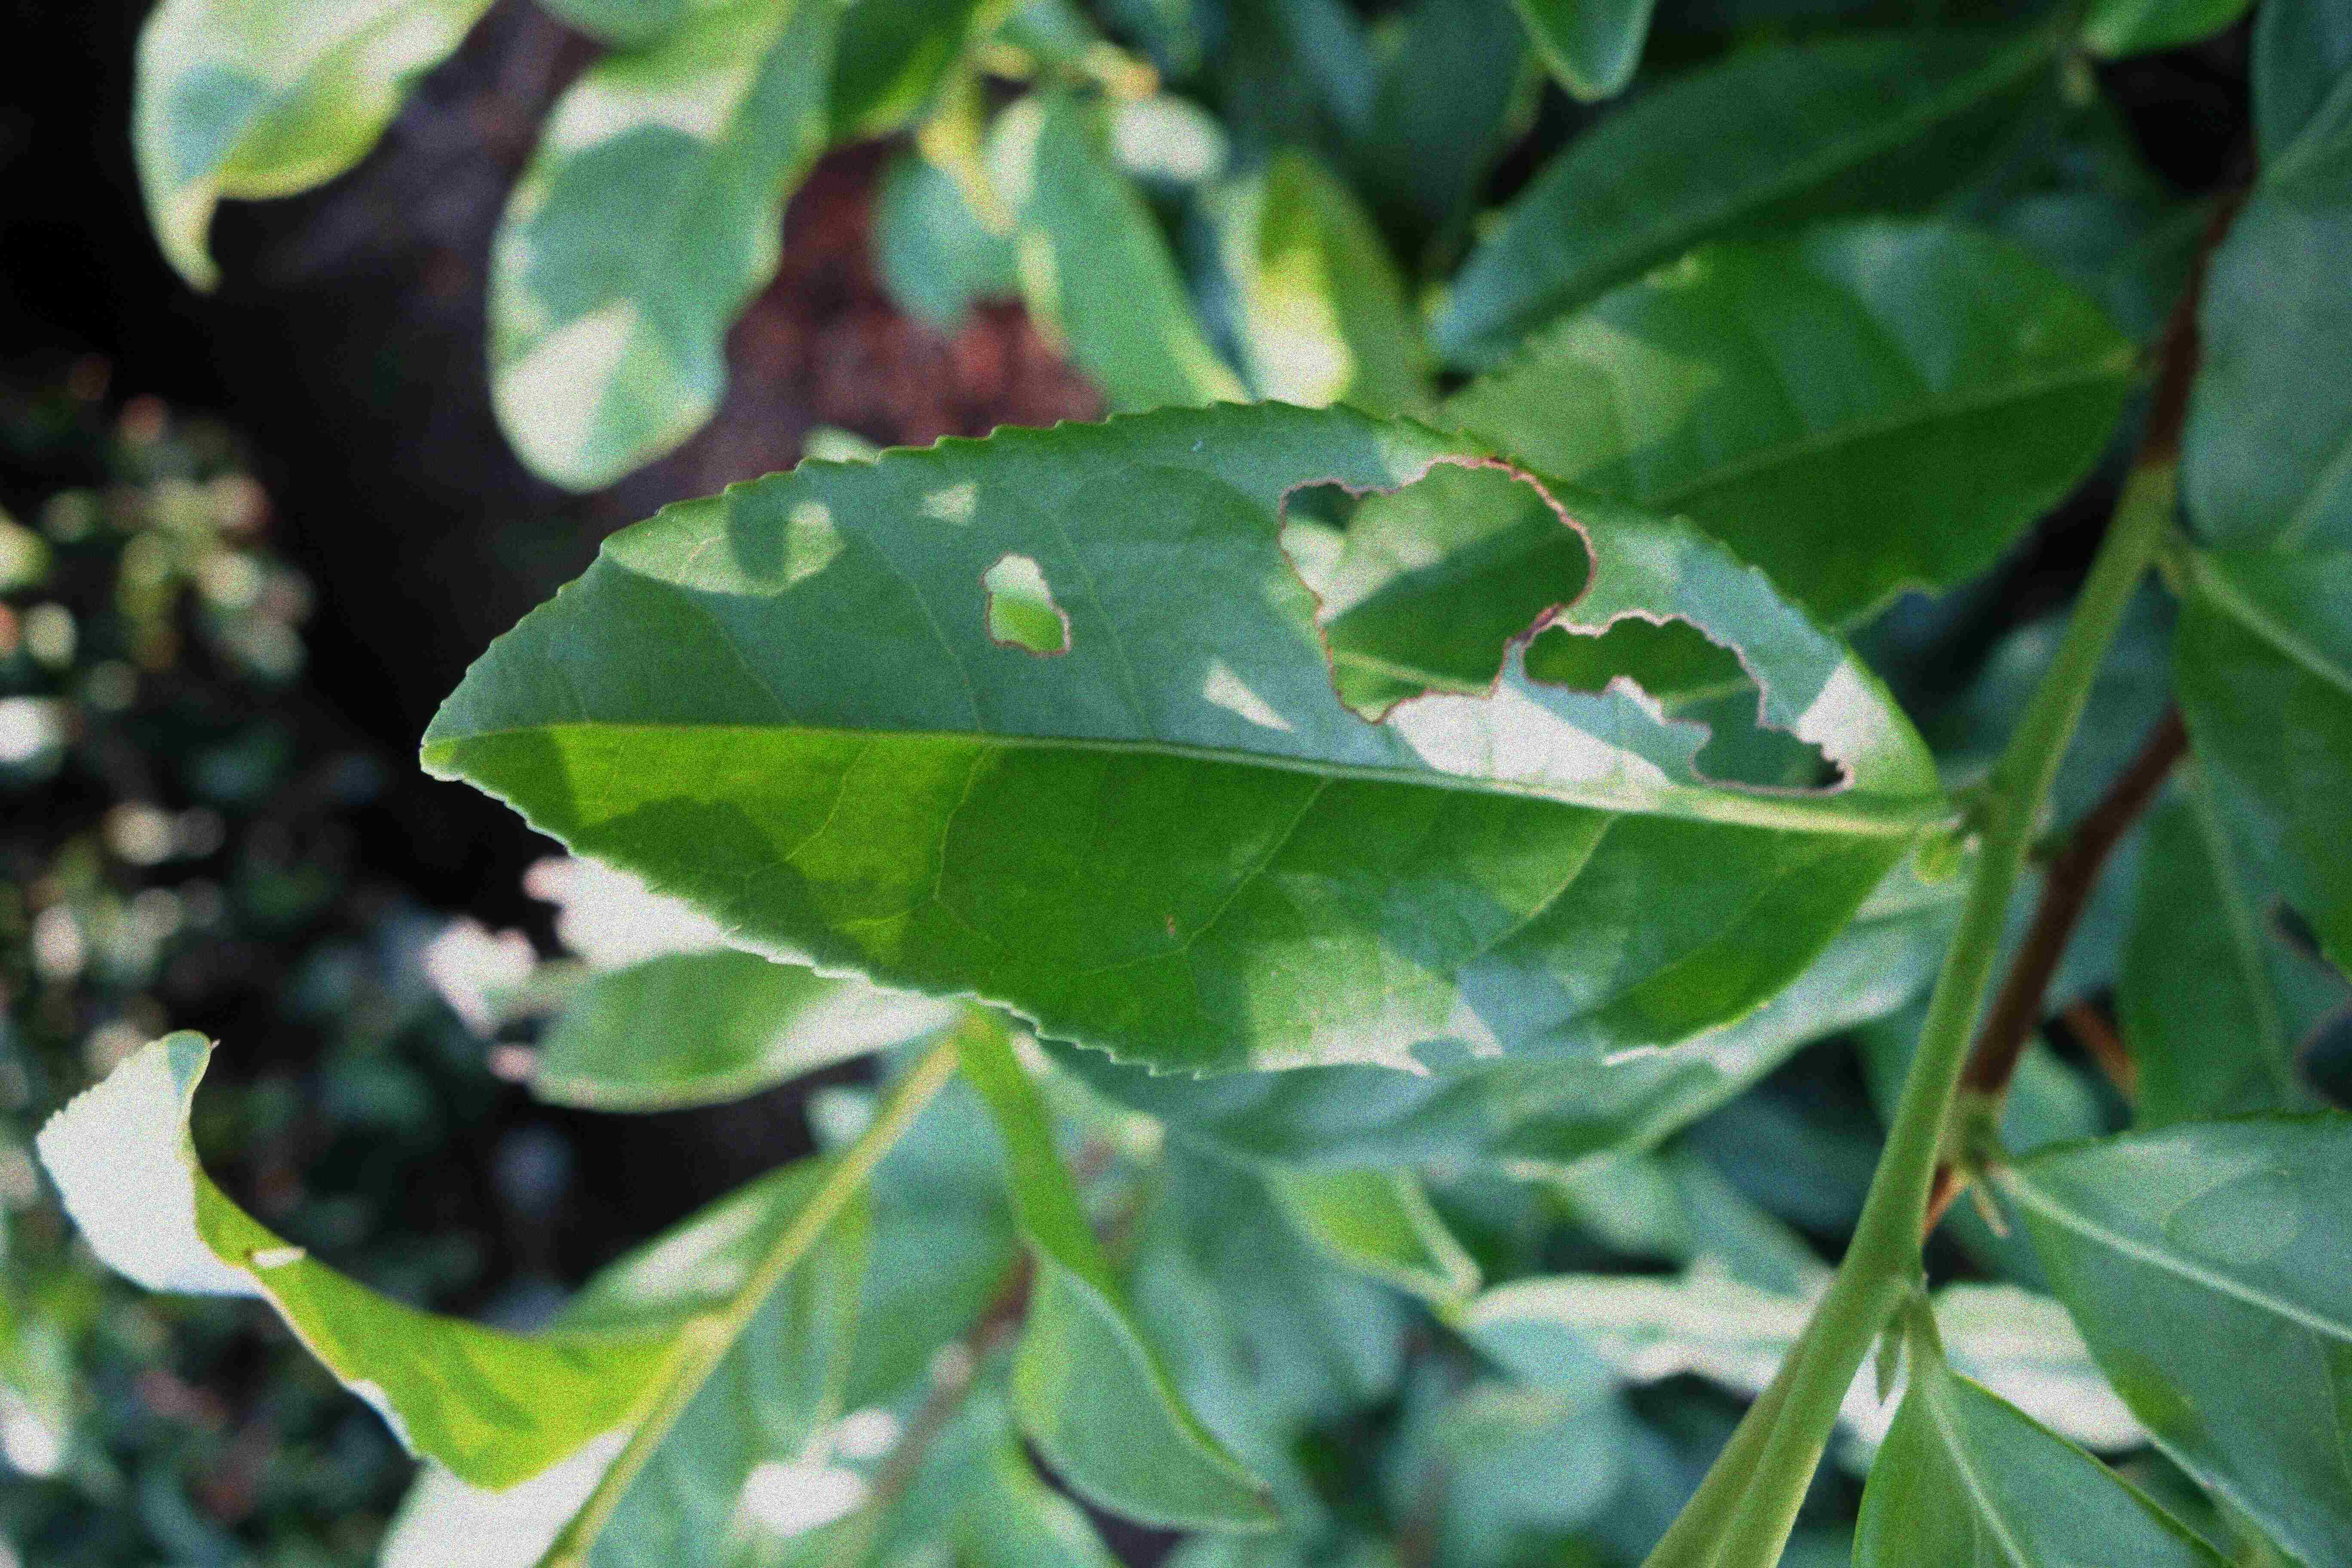chihuo_high: (418, 397, 1972, 1081)
